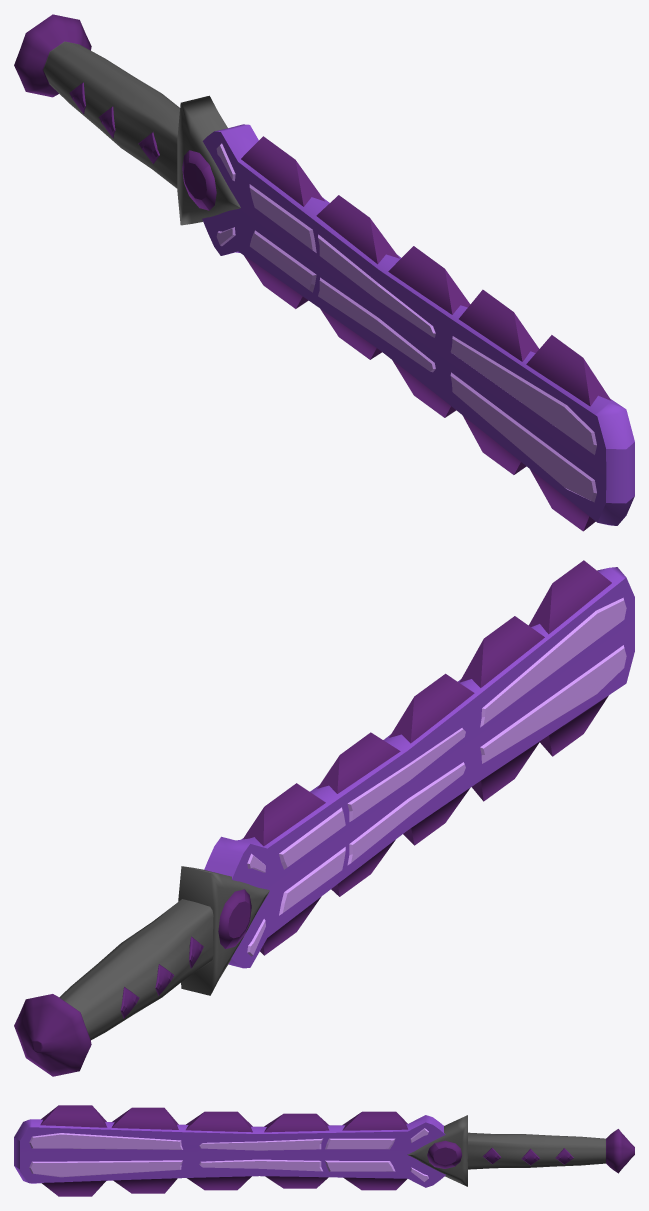
File: amethystSword_03.22.22_01.fbx
The picture shows the model from 3 angles, top to bottom: view 1: azimuth 30°, elevation 25°; view 2: azimuth 150°, elevation 25°; view 3: azimuth 270°, elevation 25°; orthographic projection. The views are drawn at different scales.
Parts seen in each view (by area): view 1: AmethystSword_Blade_GEO, AmethystSword_Hilt_GEO; view 2: AmethystSword_Blade_GEO, AmethystSword_Hilt_GEO; view 3: AmethystSword_Blade_GEO, AmethystSword_Hilt_GEO.
Boxes of the visible parts, x1,y1,x2,y2 form: AmethystSword_Blade_GEO: (202,124,634,531); AmethystSword_Hilt_GEO: (14,14,240,225); AmethystSword_Blade_GEO: (204,560,634,968); AmethystSword_Hilt_GEO: (14,866,269,1076); AmethystSword_Blade_GEO: (14,1105,445,1196); AmethystSword_Hilt_GEO: (407,1115,634,1186).
Bounding box in the file's own units: 5.87 × 12.54 × 77.03.
